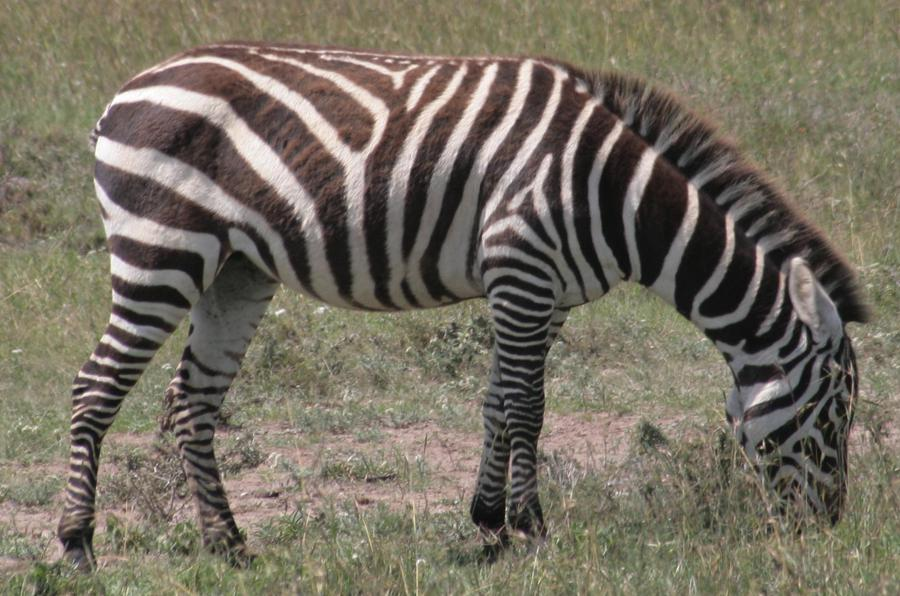zebra_plains: (77, 32, 593, 305)
